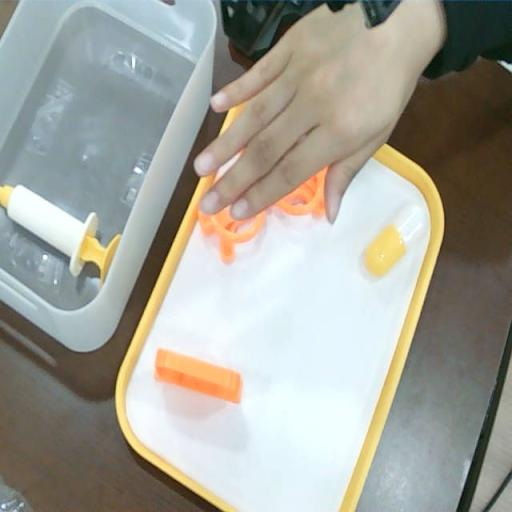hospital: (187, 2, 436, 227)
